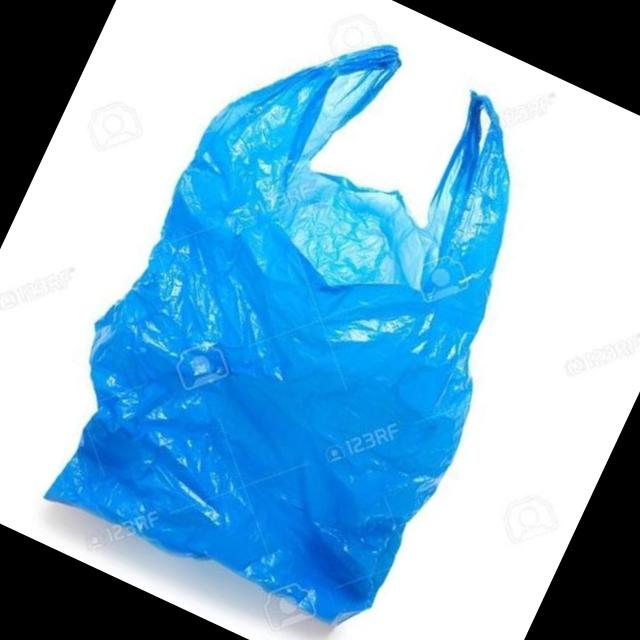KantongPlastik: (16, 0, 603, 640)
